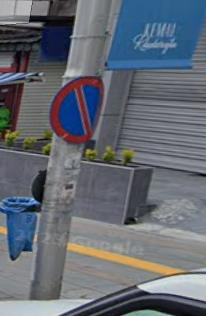nopark: (49, 73, 106, 143)
